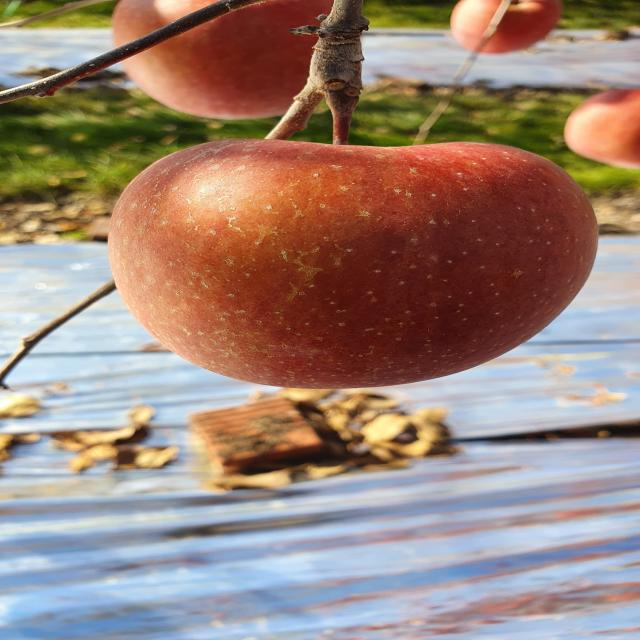fresh: (92, 127, 613, 398)
